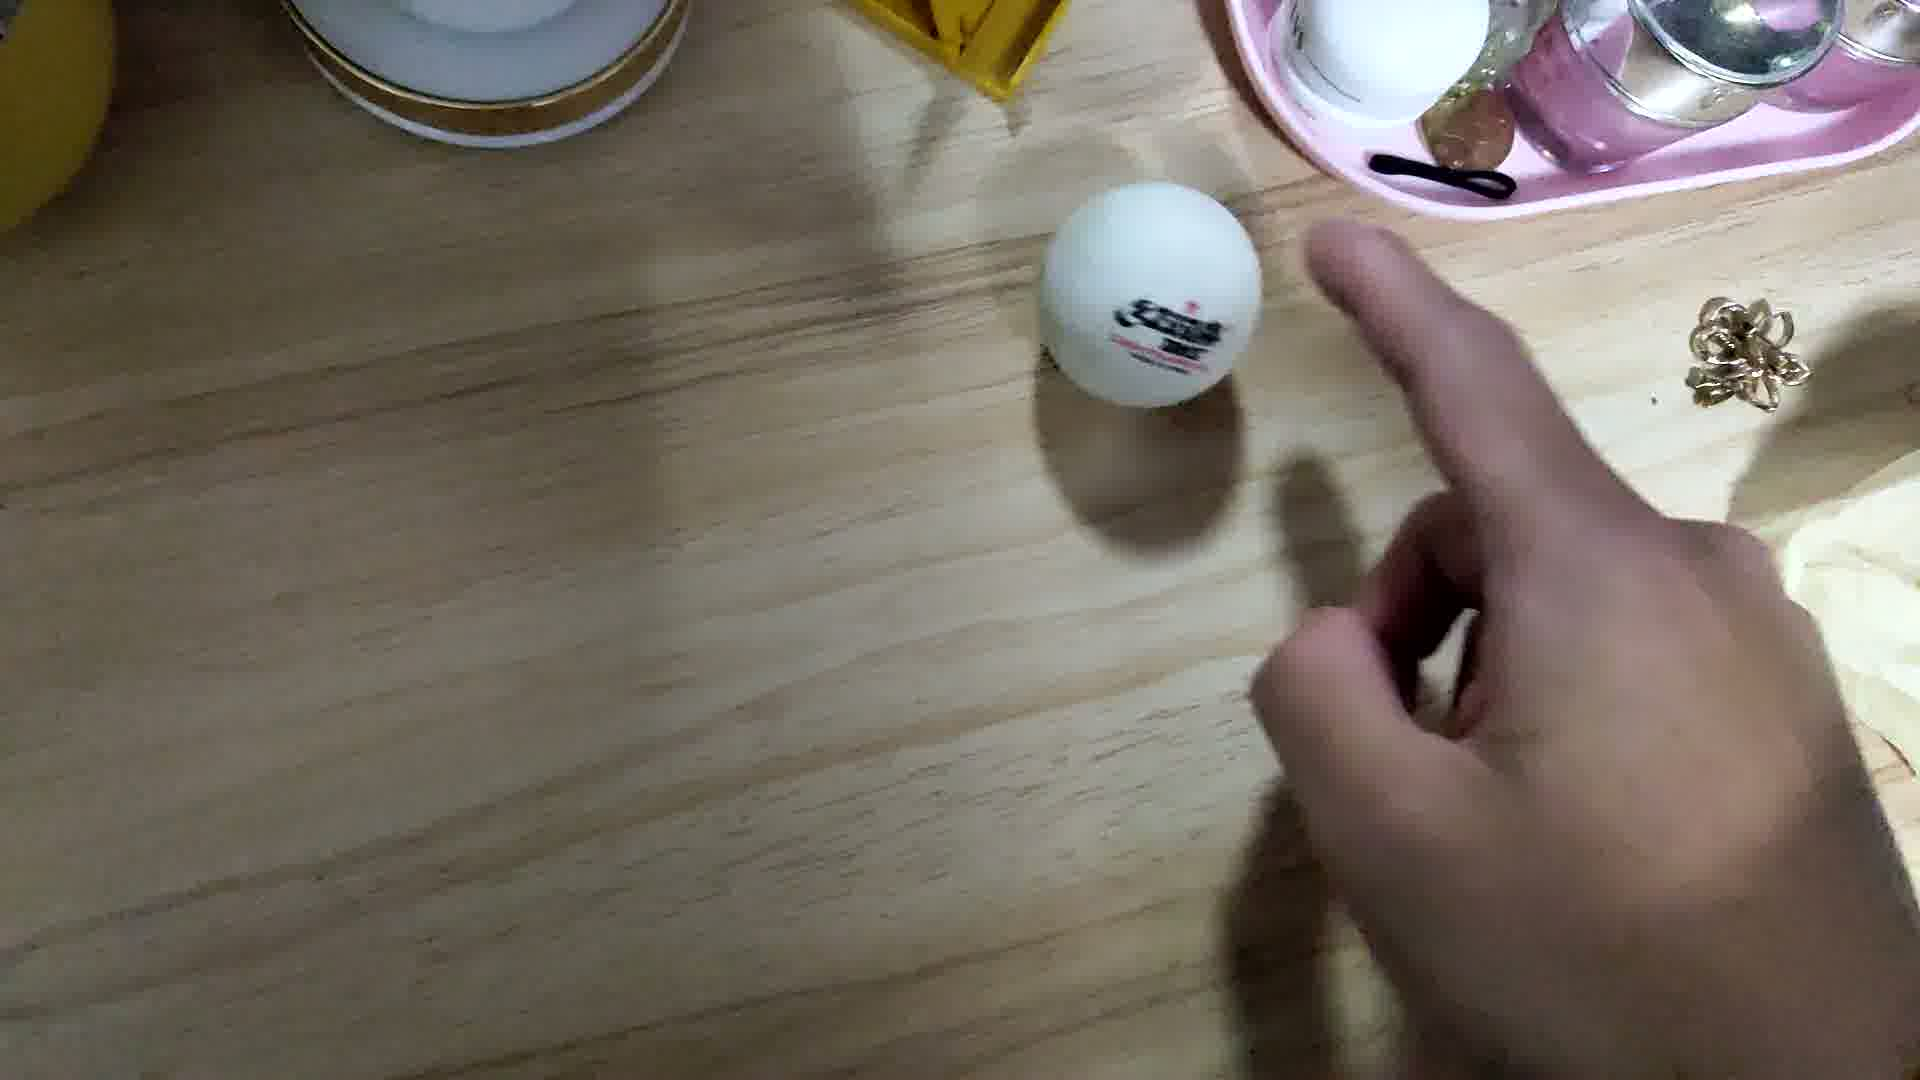Ball: (1046, 182, 1262, 407)
